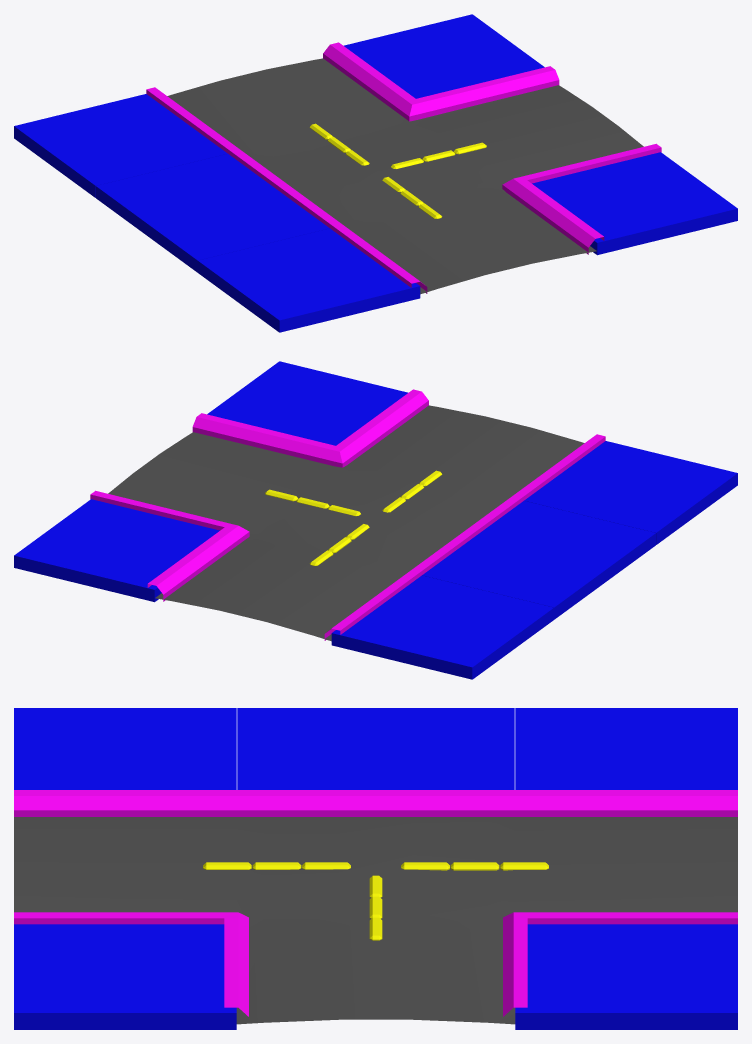
File: SM_Croisement_3_voies.fbx
3 views of the same model, one above another, from view 1: azimuth 30°, elevation 25°; view 2: azimuth 150°, elevation 25°; view 3: azimuth 270°, elevation 25° (orthographic). The views are drawn at different scales.
Visible parts, largest first — view 1: SM_Croisement_3_voies; view 2: SM_Croisement_3_voies; view 3: SM_Croisement_3_voies.
Part boxes in pixels (<box>): SM_Croisement_3_voies: <box>14,14,737,332</box>; SM_Croisement_3_voies: <box>14,361,737,679</box>; SM_Croisement_3_voies: <box>14,708,737,1029</box>.
Bounding box in the file's own units: 1298 × 45.19 × 1300.
